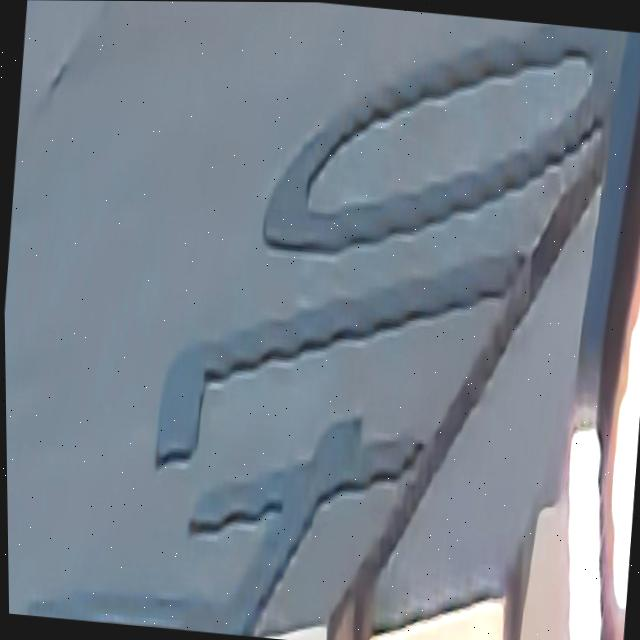character: (137, 186, 544, 516), (14, 352, 439, 640), (247, 2, 634, 301)
